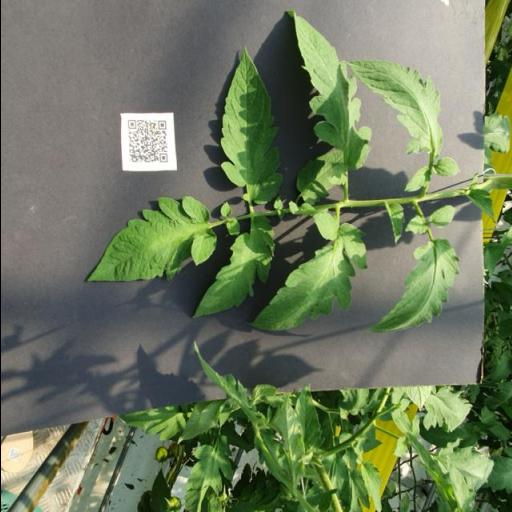Healthy: (284, 10, 372, 172), (247, 223, 367, 331), (85, 197, 215, 283), (342, 60, 456, 158), (220, 47, 282, 204), (370, 238, 460, 334), (190, 216, 274, 318)
